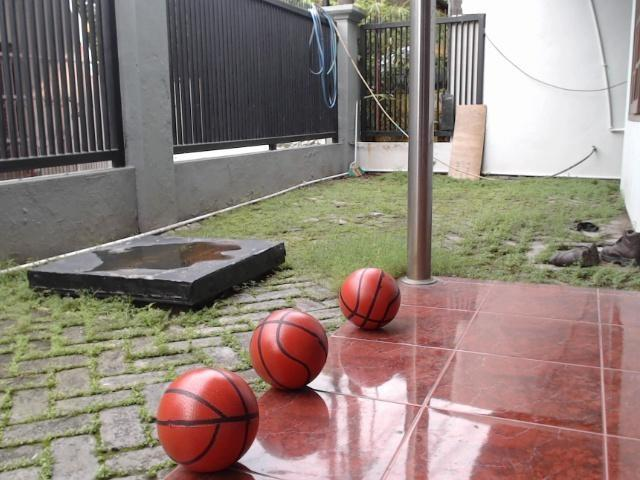Sports-Ball: (154, 374, 272, 477), (250, 308, 331, 393), (339, 263, 408, 336)
